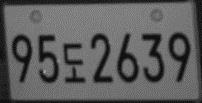2: (90, 32, 113, 82)
3: (140, 32, 165, 82)
5: (37, 33, 60, 84)
6: (116, 32, 139, 83)
9: (167, 31, 191, 82), (11, 33, 33, 83)
도: (63, 42, 85, 83)
